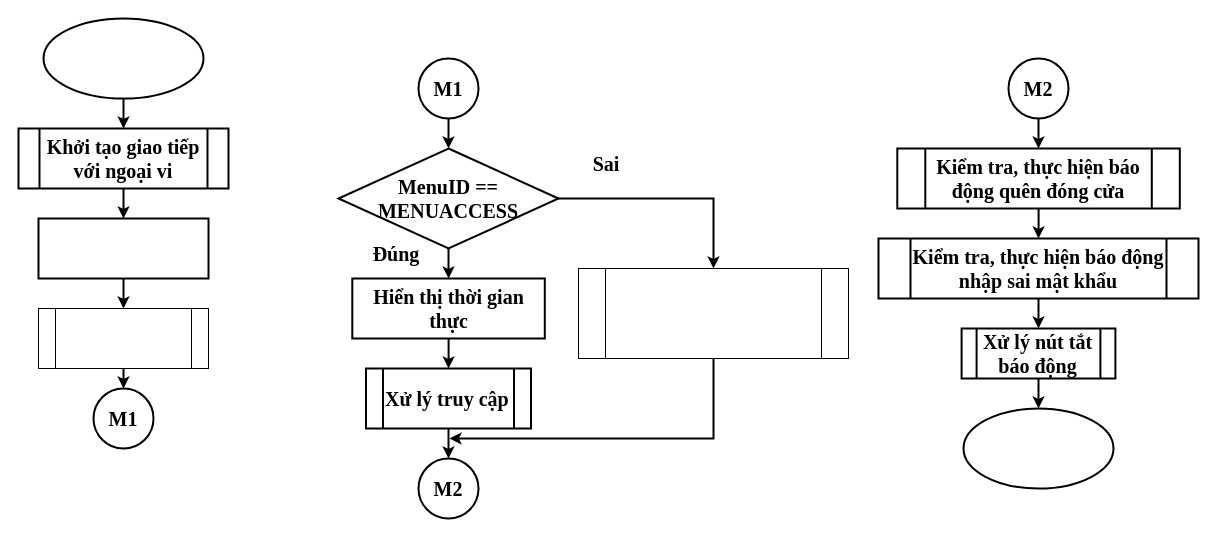
The diagram is 1216 pixels wide and 536 high, and some of its shapes have lost their labels. The centre of each missing label's shape, as x and y in pixels:
Bắt đầu hàm main: the point at 123,58
Hiển thị menu hệ thống: the point at 123,248
Kết thúc hàm main: the point at 1038,448
Thực hiện điều hướng bằng các phím A, B, C, D: the point at 713,313
Đọc bàn phím: the point at 123,338
